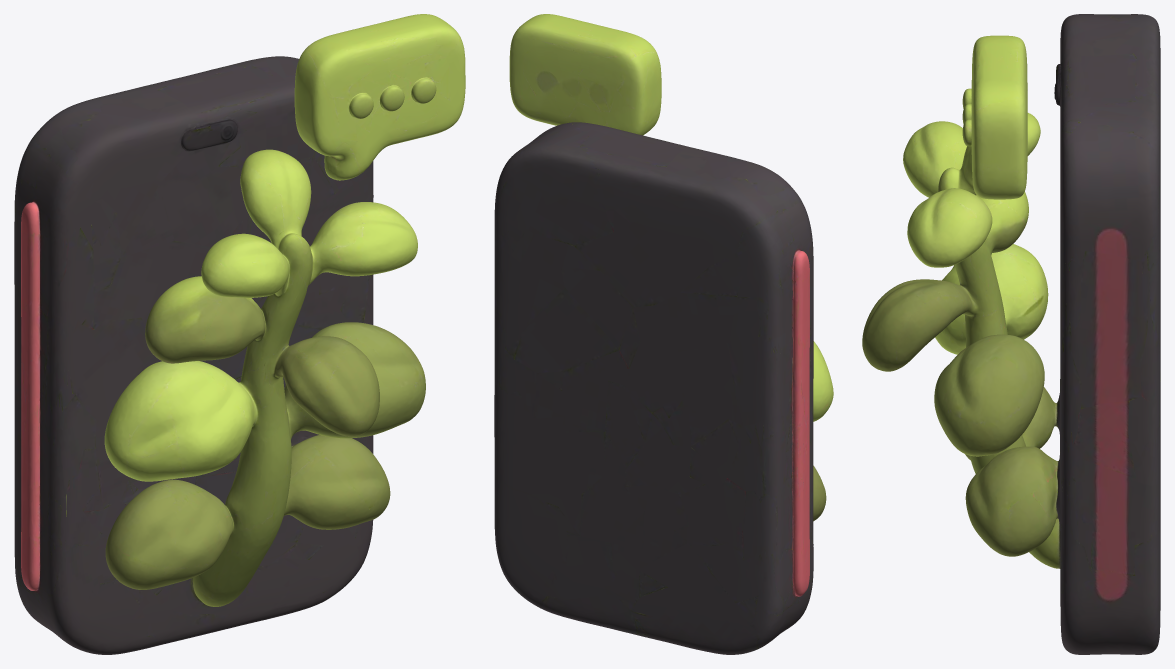
Rendered from bloombento.glb.
The picture shows the model from 3 angles, left to right: view 1: azimuth 30°, elevation 25°; view 2: azimuth 150°, elevation 25°; view 3: azimuth 270°, elevation 25°; orthographic projection. The views are drawn at different scales.
Size of the model in its own units: 1.26 by 1.9 by 0.8464.
1 material, 1 textured.
